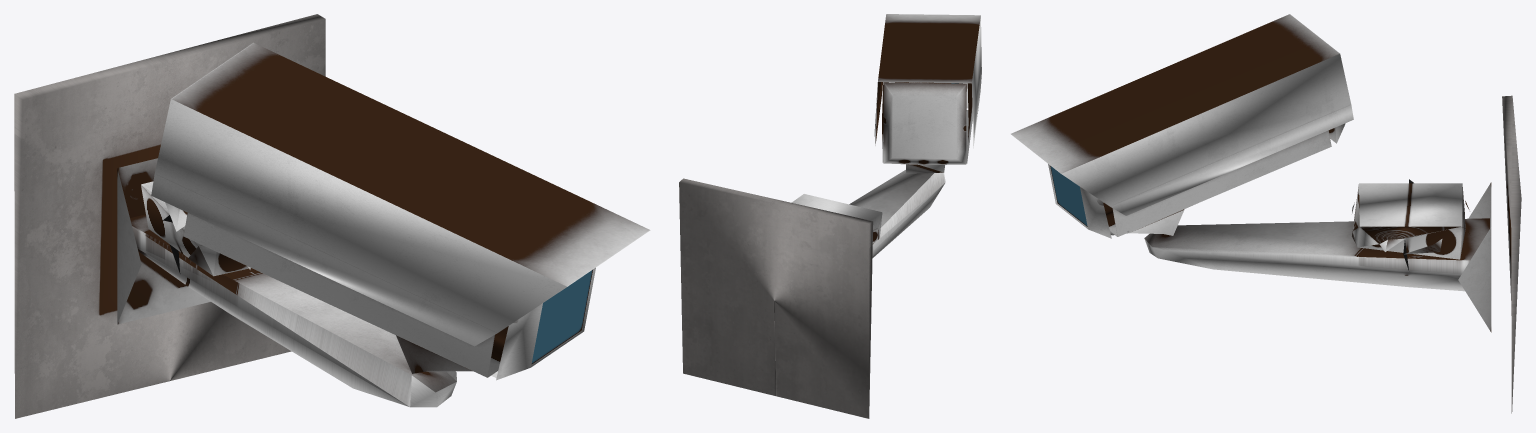
Rendered from camaras_vigilancia.obj.
The picture shows the model from 3 angles, left to right: view 1: azimuth 30°, elevation 25°; view 2: azimuth 150°, elevation 25°; view 3: azimuth 270°, elevation 25°; orthographic projection. The views are drawn at different scales.
Visible parts, largest first — view 1: Object_9, Object_14, Object_10, Object_4, Object_6, Object_12, Object_5, Object_7; view 2: Object_14, Object_9, Object_5, Object_10, Object_12, Object_4, Object_7; view 3: Object_9, Object_10, Object_12, Object_4, Object_14, Object_5, Object_6, Object_7.
Boxes of the visible parts, <box> form: Object_9: <box>151,42,650,346</box>; Object_14: <box>14,14,325,418</box>; Object_10: <box>117,158,456,407</box>; Object_4: <box>183,213,508,377</box>; Object_6: <box>531,269,592,364</box>; Object_12: <box>141,181,250,276</box>; Object_5: <box>165,202,595,380</box>; Object_7: <box>396,335,497,377</box>; Object_14: <box>679,178,873,418</box>; Object_9: <box>874,14,981,148</box>; Object_5: <box>883,82,968,164</box>; Object_10: <box>849,170,945,258</box>; Object_12: <box>791,194,882,243</box>; Object_4: <box>882,82,972,163</box>; Object_7: <box>906,164,944,173</box>; Object_9: <box>1011,14,1353,215</box>; Object_10: <box>1144,182,1491,332</box>; Object_12: <box>1352,179,1469,270</box>; Object_4: <box>1103,130,1331,236</box>; Object_14: <box>1502,95,1521,413</box>; Object_5: <box>1048,123,1345,238</box>; Object_6: <box>1050,166,1087,226</box>; Object_7: <box>1110,205,1192,235</box>.
Size of the model in its own units: 0.2639 by 0.3384 by 0.5231.
Materials: 8 (8 with a texture image).
